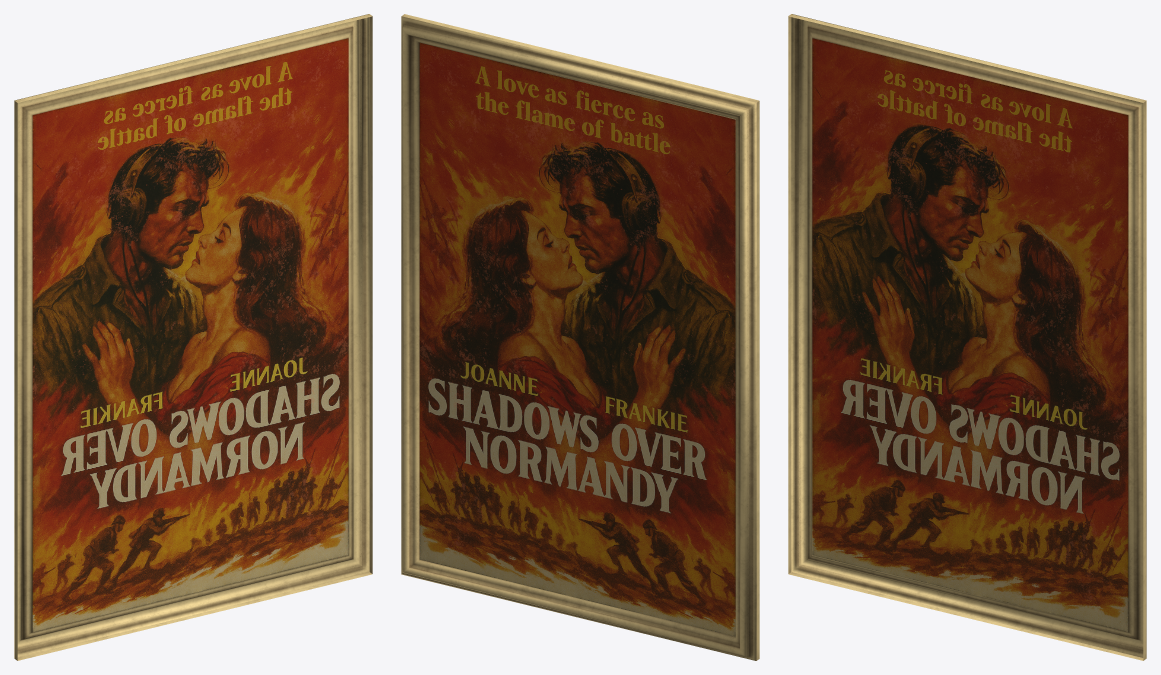
File: B1M1_Painting1_GEO.fbx
The picture shows the model from 3 angles, left to right: view 1: azimuth 30°, elevation 25°; view 2: azimuth 150°, elevation 25°; view 3: azimuth 330°, elevation 25°; orthographic projection.
Parts seen in each view (by area): view 1: B1M1_Painting1; view 2: B1M1_Painting1; view 3: B1M1_Painting1.
Boxes of the visible parts, x1,y1,x2,y2 form: B1M1_Painting1: (14,14,372,660); B1M1_Painting1: (401,14,759,660); B1M1_Painting1: (788,14,1146,660).
Size of the model in its own units: 67.06 by 101 by 2.83.
